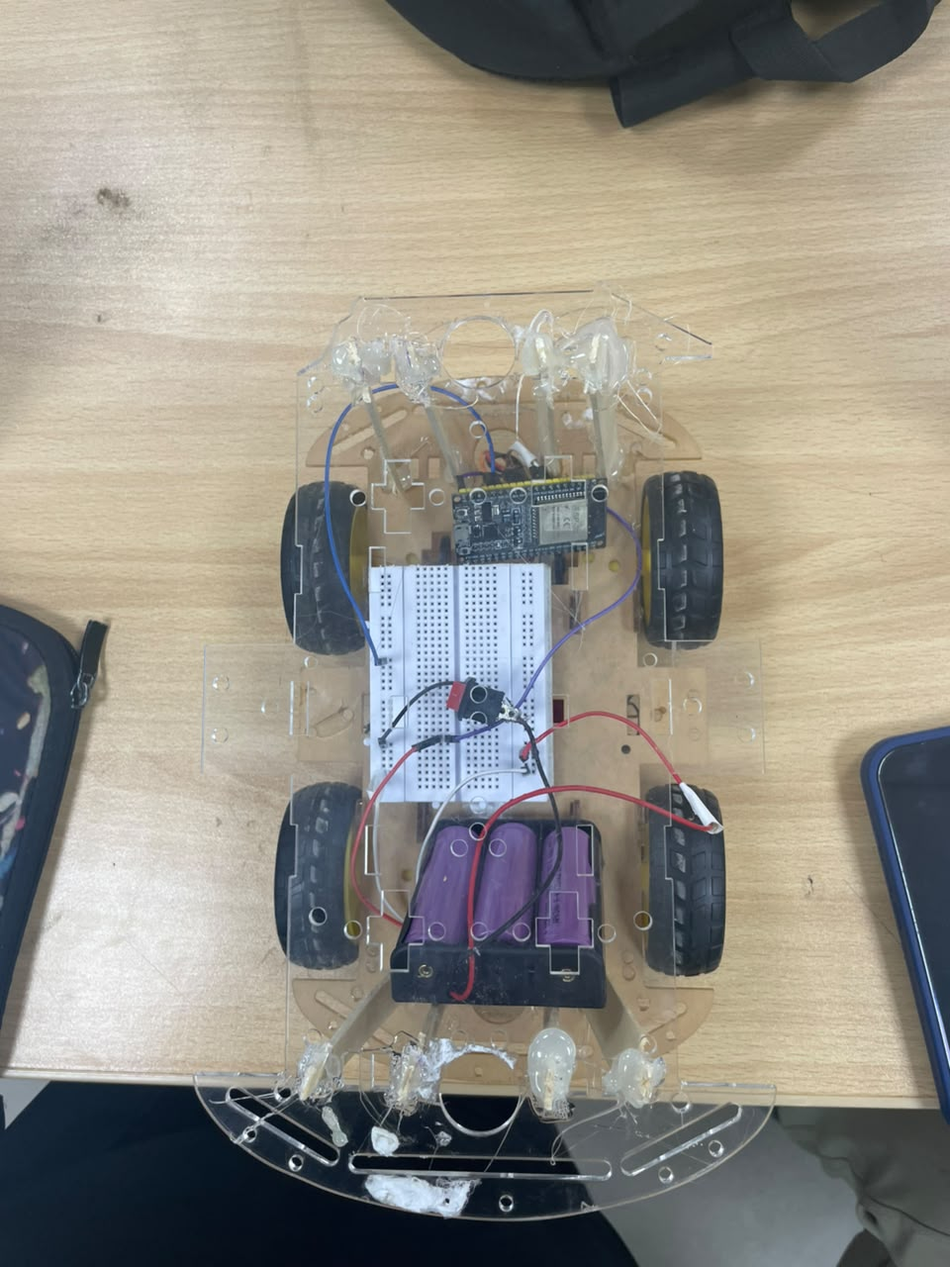Rover-detection: (196, 286, 775, 1225)
